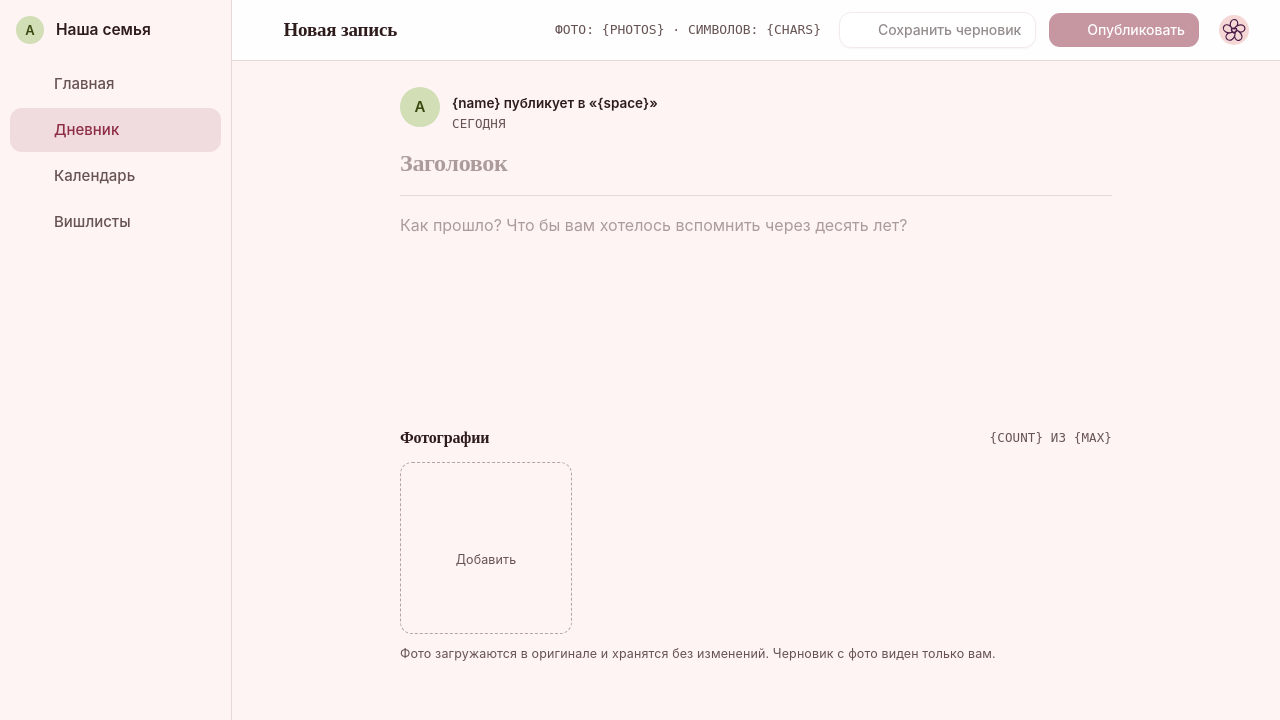
it: JournalEditorScreen (a new entry) › saves only a draft when the author asks for a draft
Step 1. Type "Только текст" into the text box named "Текст записи" → (756,312), box [400,212,1112,412]
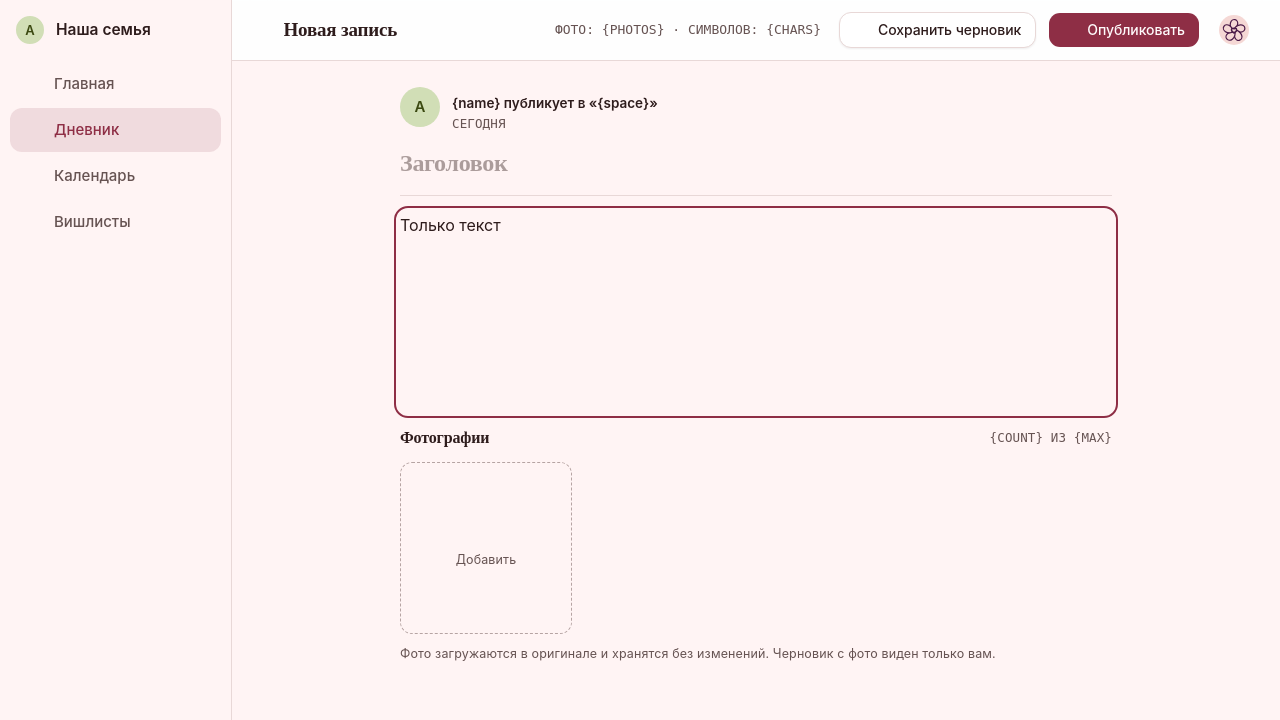
Step 2. Click the button "Сохранить черновик" → (938,30), box [839,12,1036,48]
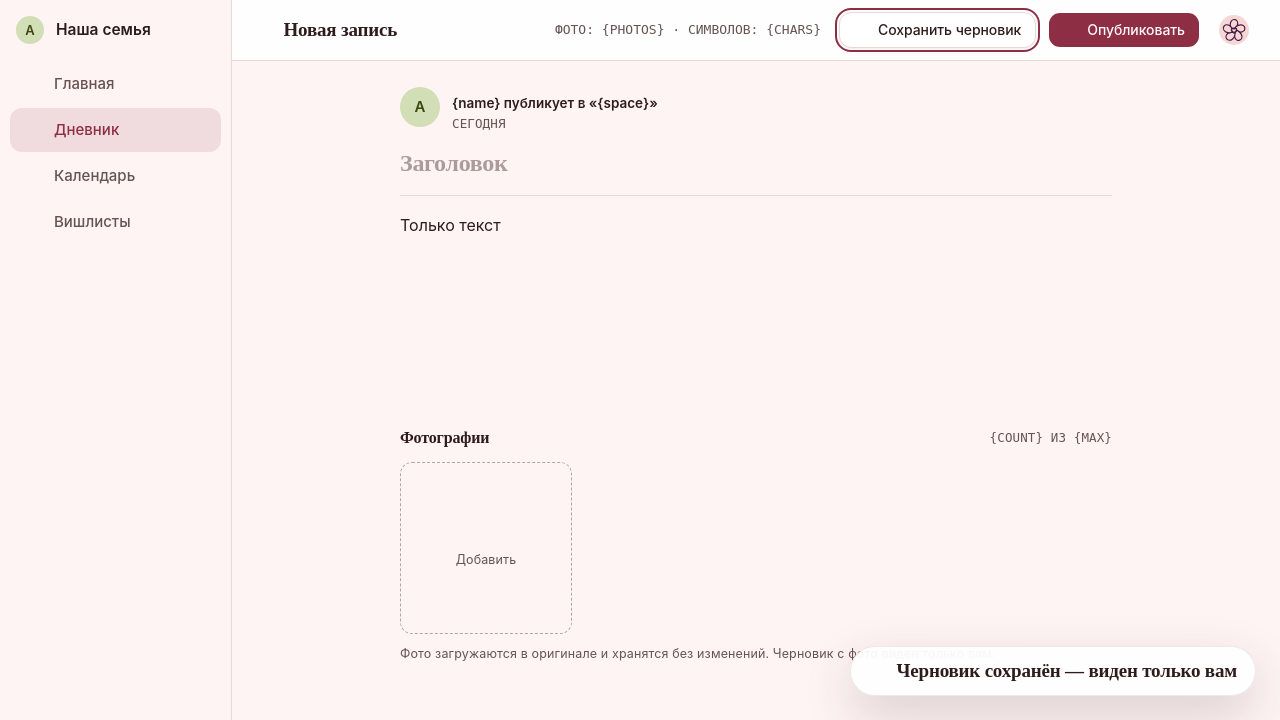
Result: the heading "Черновик сохранён — виден только вам" is shown at [896,659,1237,683]
